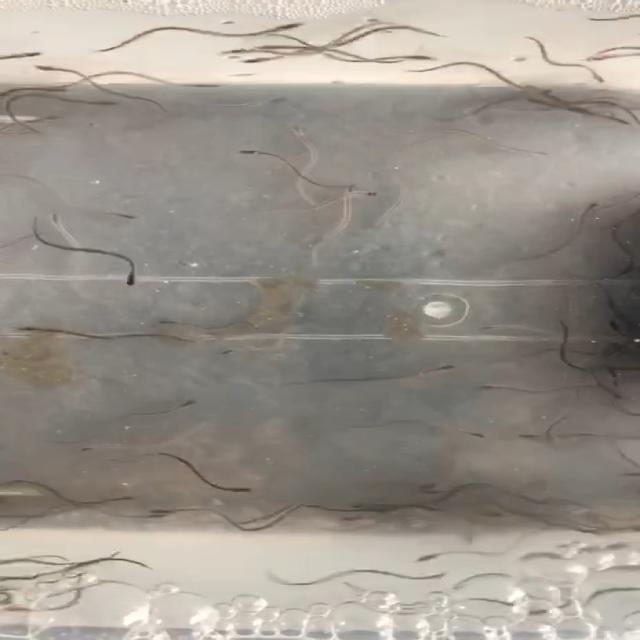active_glass_eel: (146, 494, 207, 526), (264, 17, 330, 36), (405, 44, 450, 68), (15, 321, 61, 344), (402, 545, 447, 568), (425, 359, 479, 378), (470, 318, 527, 336), (154, 391, 202, 412), (130, 313, 188, 330), (111, 208, 160, 228), (268, 116, 308, 140), (221, 133, 251, 162), (89, 487, 142, 503), (458, 424, 492, 448), (222, 340, 258, 362), (221, 484, 269, 500), (578, 69, 617, 88), (350, 187, 388, 205), (567, 193, 604, 211), (507, 428, 539, 448), (225, 44, 270, 58), (30, 106, 65, 124), (470, 378, 508, 394), (418, 572, 450, 591), (196, 84, 241, 96), (89, 97, 126, 111), (30, 60, 64, 74), (8, 45, 33, 61), (614, 116, 632, 131), (529, 150, 554, 160)
